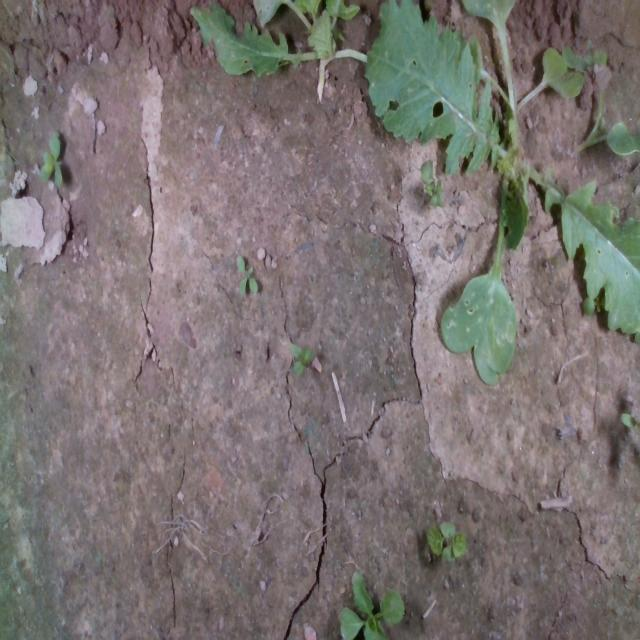weed: (426, 515, 466, 561), (284, 340, 322, 378), (235, 252, 258, 296)
